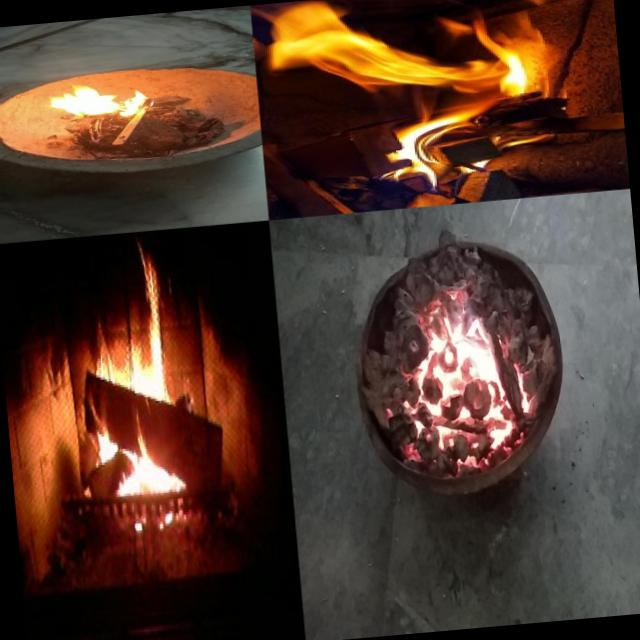fire: (257, 0, 540, 129), (373, 267, 541, 482), (73, 250, 189, 515), (36, 74, 160, 125)
